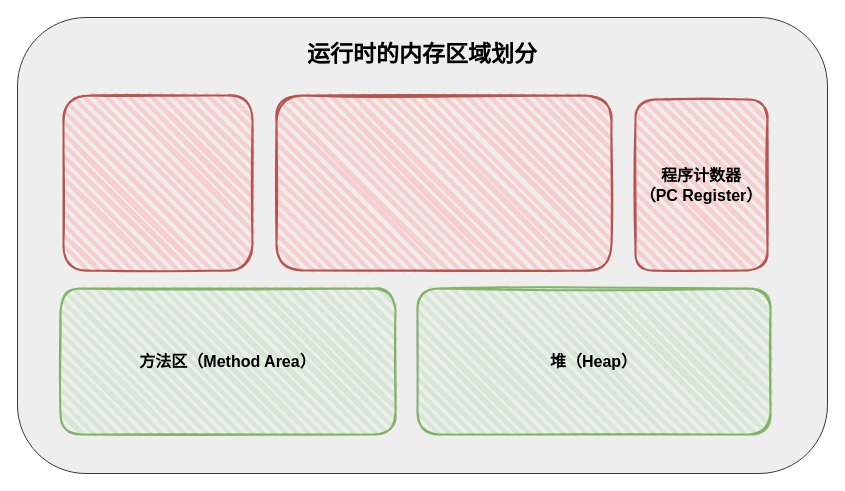
This 845x491 diagram has some shape labels left out. The shapes that lost their labels are listed below. From the top down, each one's centre as x and y in pixels, then its label:
(x=157, y=182): 虚拟机栈（VM Stack）
(x=443, y=182): 本地方法栈（Native Method Stack）
